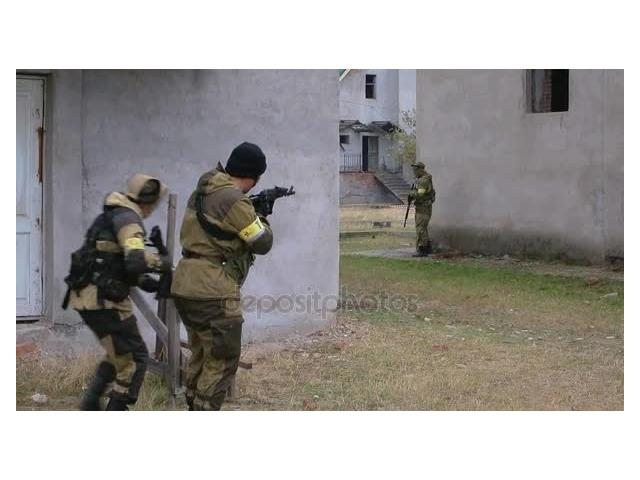rifle: (234, 185, 298, 229), (145, 226, 177, 297), (400, 181, 420, 229)
